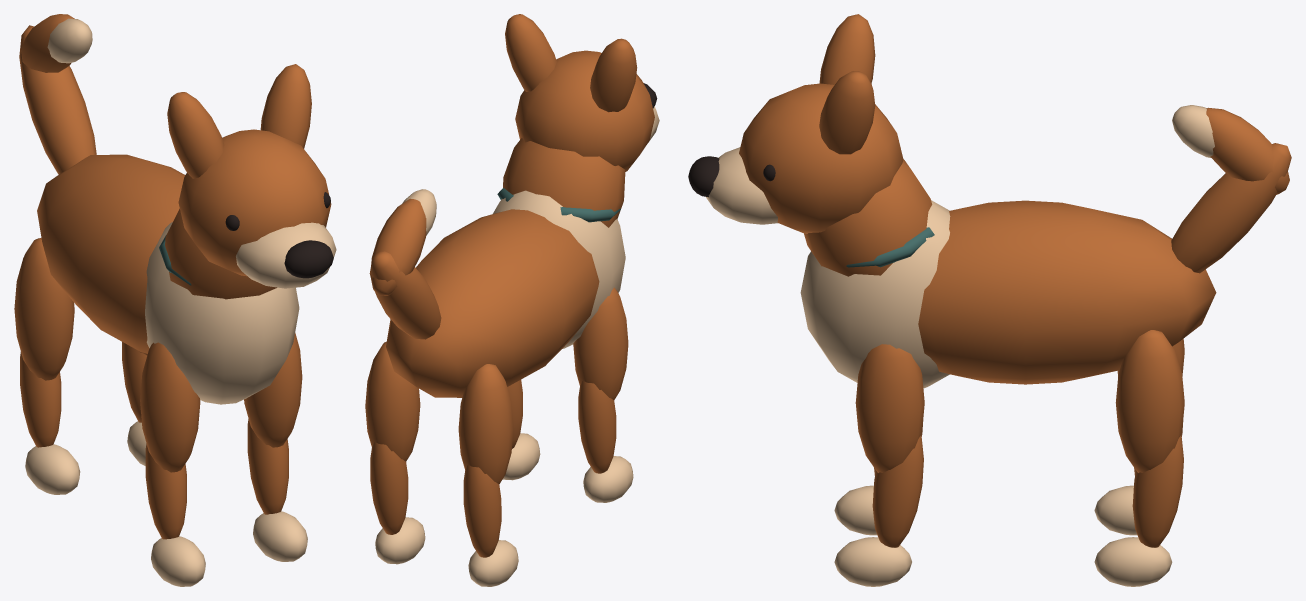
The model's file is coastal-dog.glb.
3 renders of one model, left to right at view 1: azimuth 30°, elevation 25°; view 2: azimuth 150°, elevation 25°; view 3: azimuth 270°, elevation 25°, orthographic. The views are drawn at different scales.
Parts seen in each view (by area): view 1: Body, Upper (×3), Chest, Head, Lower (×4), Paw (×4), TailBase, Neck, Muzzle, LeftEar, RightEar, TailCurl (+2 smaller); view 2: Body, Upper (×3), Head, Lower (×4), Neck, Paw (×4), Chest, TailBase, TailCurl, RightEar, LeftEar, Collar (+1 smaller); view 3: Body, Upper (×2), Head, Chest, Paw (×4), Lower (×2), Neck, TailBase, TailCurl, RightEar, Muzzle, LeftEar (+3 smaller).
Boxes of the visible parts, x1,y1,x2,y2 form: Body: (37,154,185,353); Upper (×3): (14,238,302,472); Chest: (145,222,299,404); Head: (178,129,331,276); Lower (×4): (20,342,288,539); Paw (×4): (25,421,307,586); TailBase: (19,25,96,174); Neck: (165,208,276,299); Muzzle: (236,222,336,288); LeftEar: (167,92,224,178); RightEar: (260,64,311,148); TailCurl: (21,14,74,72); Body: (386,209,599,397); Upper (×3): (365,287,628,484); Head: (515,50,654,171); Lower (×4): (370,379,616,557); Neck: (503,138,625,227); Paw (×4): (375,433,633,586); Chest: (493,190,625,348); TailBase: (369,251,441,339); TailCurl: (370,198,426,295); RightEar: (505,14,556,91); LeftEar: (590,38,637,112); Collar: (497,188,620,222); Body: (918,200,1216,384); Upper (×2): (855,330,1184,472); Head: (739,83,903,233); Chest: (800,200,950,388); Paw (×4): (834,485,1172,586); Lower (×2): (872,435,1183,547); Neck: (804,159,932,276); TailBase: (1171,143,1291,273); TailCurl: (1206,107,1289,194); RightEar: (819,71,875,154); Muzzle: (706,147,778,224); LeftEar: (819,14,875,84).
Bounding box in the file's own units: 0.254 × 0.7734 × 0.8216.
